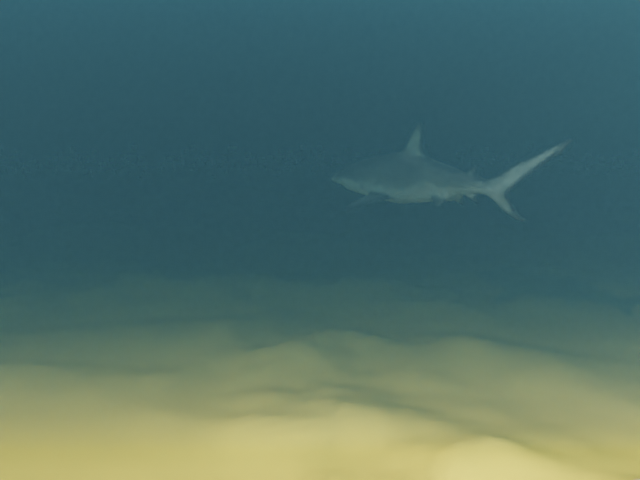Carribean Shark.001: (330, 123, 572, 221)
